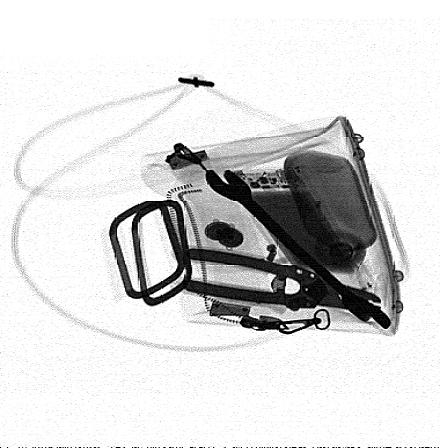Pliers: (181, 245, 385, 314)
Powerbank: (219, 166, 376, 292)
Wrench: (204, 168, 392, 330)
